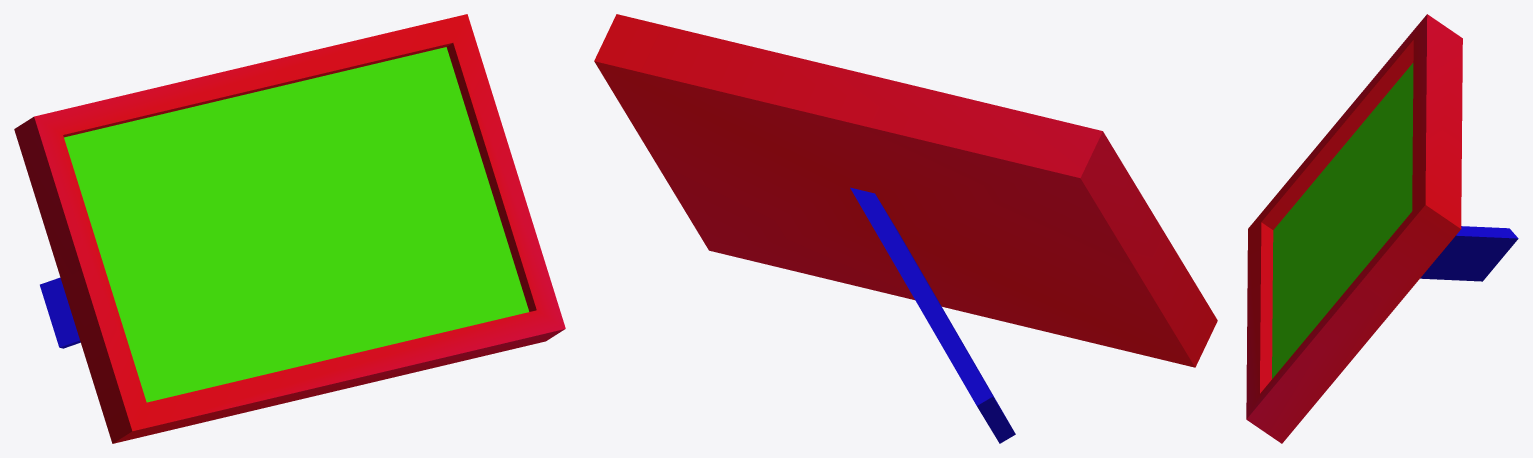
Rendered from pictureWide.fbx.
3 renders of one model, left to right at view 1: azimuth 30°, elevation 25°; view 2: azimuth 150°, elevation 25°; view 3: azimuth 270°, elevation 25°, orthographic. The views are drawn at different scales.
Visible parts, largest first — view 1: PictureWide; view 2: PictureWide; view 3: PictureWide.
Part boxes in pixels (<box>): PictureWide: <box>14,14,565,443</box>; PictureWide: <box>594,14,1217,443</box>; PictureWide: <box>1246,14,1518,443</box>.
Bounding box in the file's own units: 39.06 × 23.25 × 23.71.
